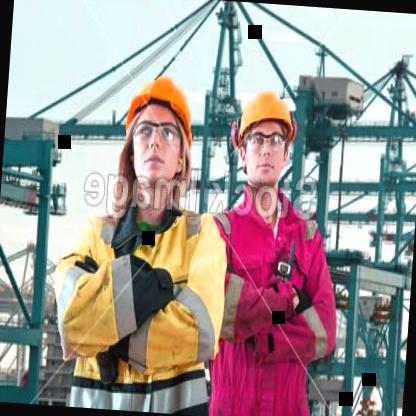helmet: (116, 75, 203, 214), (227, 86, 311, 198)
